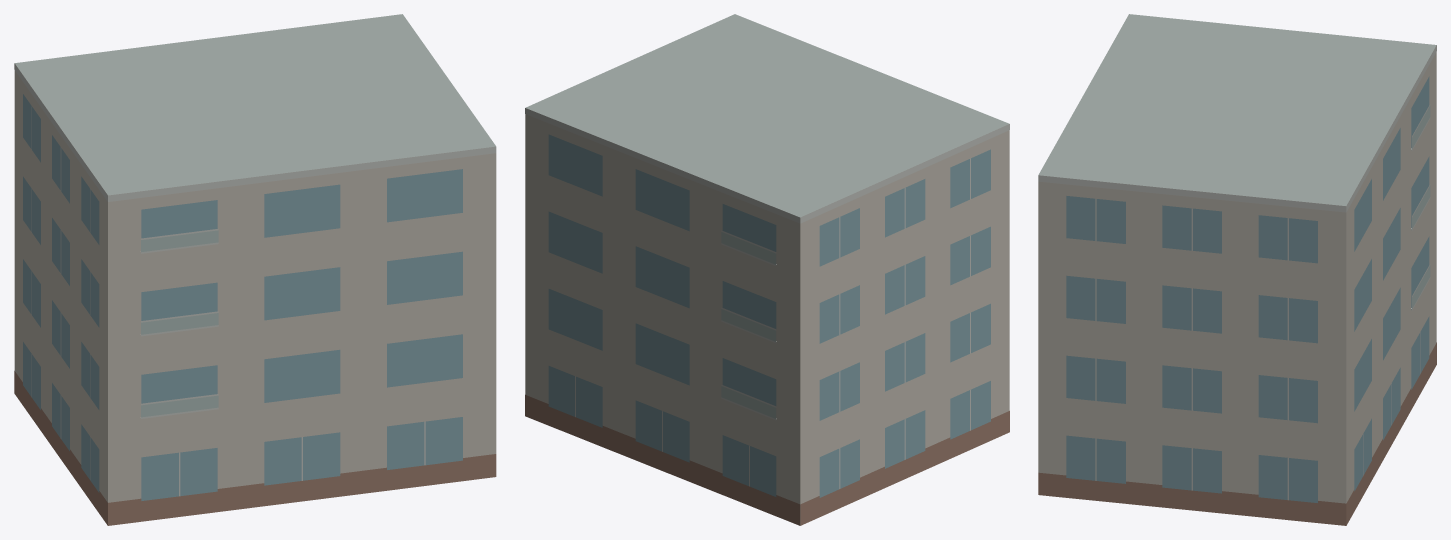
File: residential-5233d5bb-af1e-4cf6-8b12-134036c289f2.glb
3 views of the same model, side by side, from view 1: azimuth 30°, elevation 25°; view 2: azimuth 150°, elevation 25°; view 3: azimuth 270°, elevation 25° (orthographic). The views are drawn at different scales.
Parts seen in each view (by area): view 1: residential-5233d5bb-af1e-4cf6-8b12-134036c289f2.tmp; view 2: residential-5233d5bb-af1e-4cf6-8b12-134036c289f2.tmp; view 3: residential-5233d5bb-af1e-4cf6-8b12-134036c289f2.tmp.
Boxes of the visible parts, box(x1,y1,x2,y2) form: residential-5233d5bb-af1e-4cf6-8b12-134036c289f2.tmp: box(14, 14, 496, 525); residential-5233d5bb-af1e-4cf6-8b12-134036c289f2.tmp: box(525, 14, 1009, 525); residential-5233d5bb-af1e-4cf6-8b12-134036c289f2.tmp: box(1038, 14, 1436, 525).
Size of the model in its own units: 15.74 by 12.2 by 13.79.
